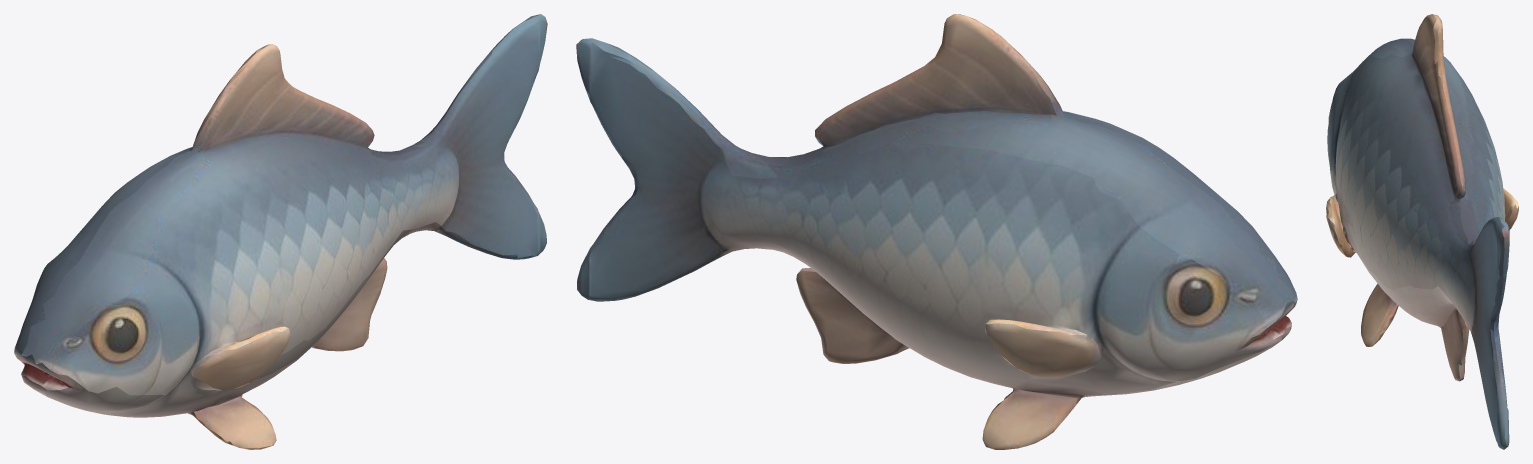
File: fish_s.glb
3 renders of one model, left to right at view 1: azimuth 30°, elevation 25°; view 2: azimuth 150°, elevation 25°; view 3: azimuth 270°, elevation 25°, orthographic. The views are drawn at different scales.
Parts seen in each view (by area): view 1: item_fish_s; view 2: item_fish_s; view 3: item_fish_s.
Part boxes in pixels (x1,y1,x2,y2): item_fish_s: (14, 14, 547, 449); item_fish_s: (576, 14, 1297, 449); item_fish_s: (1326, 14, 1518, 449).
Size of the model in its own units: 1 by 0.5894 by 0.2988.
1 material, 1 textured.
